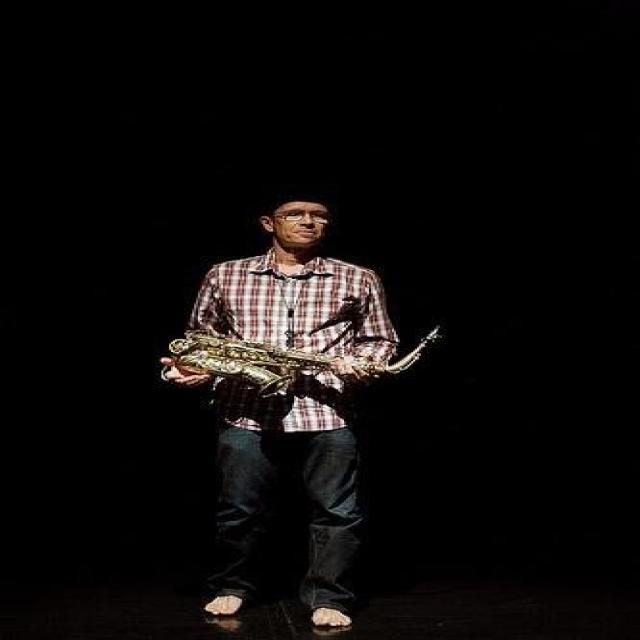saxophone: (160, 322, 451, 398)
